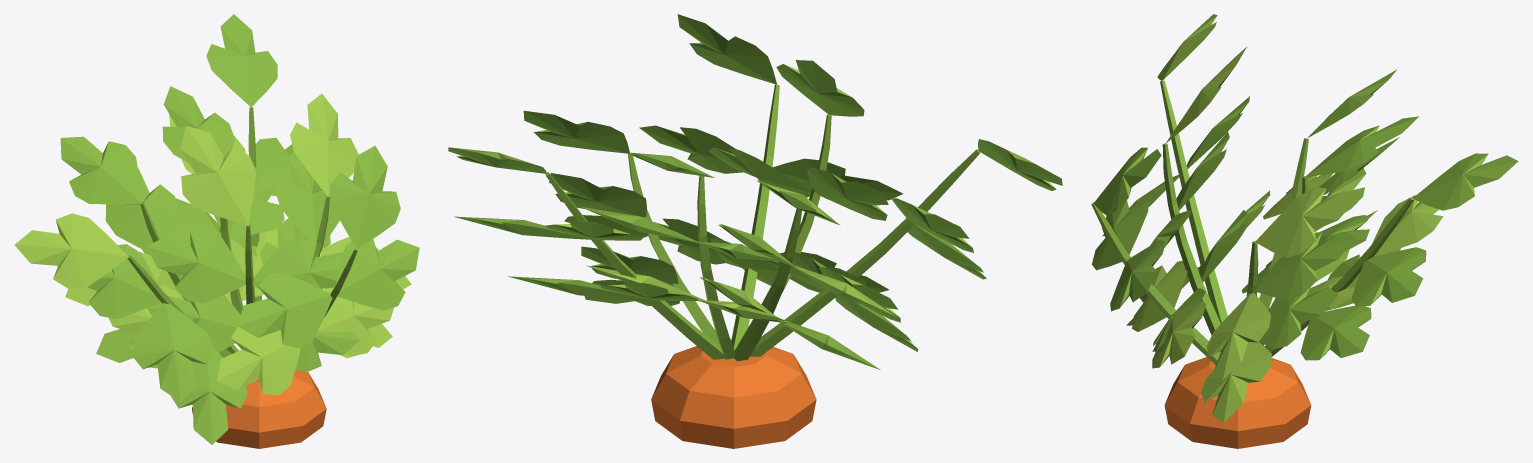
The model's file is FMS_Crop_Carrot_S2.fbx.
The picture shows the model from 3 angles, left to right: view 1: azimuth 30°, elevation 25°; view 2: azimuth 150°, elevation 25°; view 3: azimuth 270°, elevation 25°; orthographic projection. The views are drawn at different scales.
Parts seen in each view (by area): view 1: FMS_Crop_Carrot_S2; view 2: FMS_Crop_Carrot_S2; view 3: FMS_Crop_Carrot_S2.
Boxes of the visible parts, left/top/right/bottom form: FMS_Crop_Carrot_S2: left=14, top=14, right=419, bottom=448; FMS_Crop_Carrot_S2: left=448, top=14, right=1062, bottom=448; FMS_Crop_Carrot_S2: left=1091, top=14, right=1518, bottom=448.
Bounding box in the file's own units: 0.3746 × 0.2737 × 0.3153.
